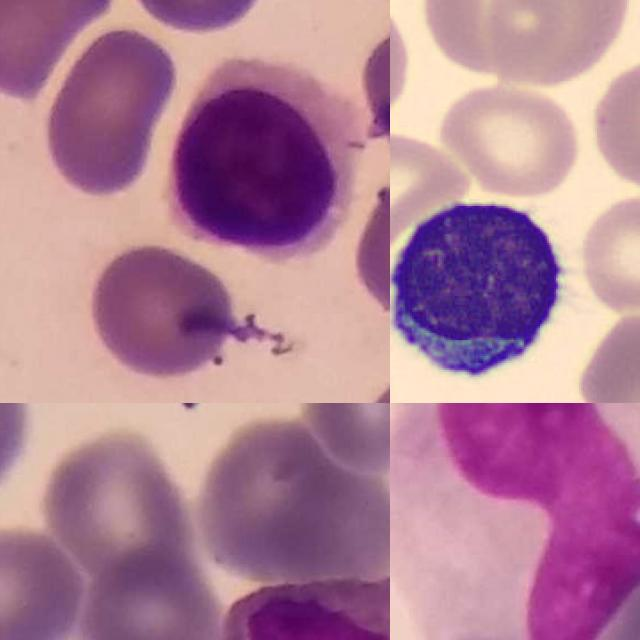Lymphocyte: (163, 57, 368, 264), (390, 186, 577, 394)
Monocyte: (390, 403, 640, 640)
RBC: (435, 81, 585, 199), (479, 0, 636, 89), (390, 125, 470, 266), (575, 190, 640, 318), (586, 52, 640, 195), (573, 308, 640, 403)
